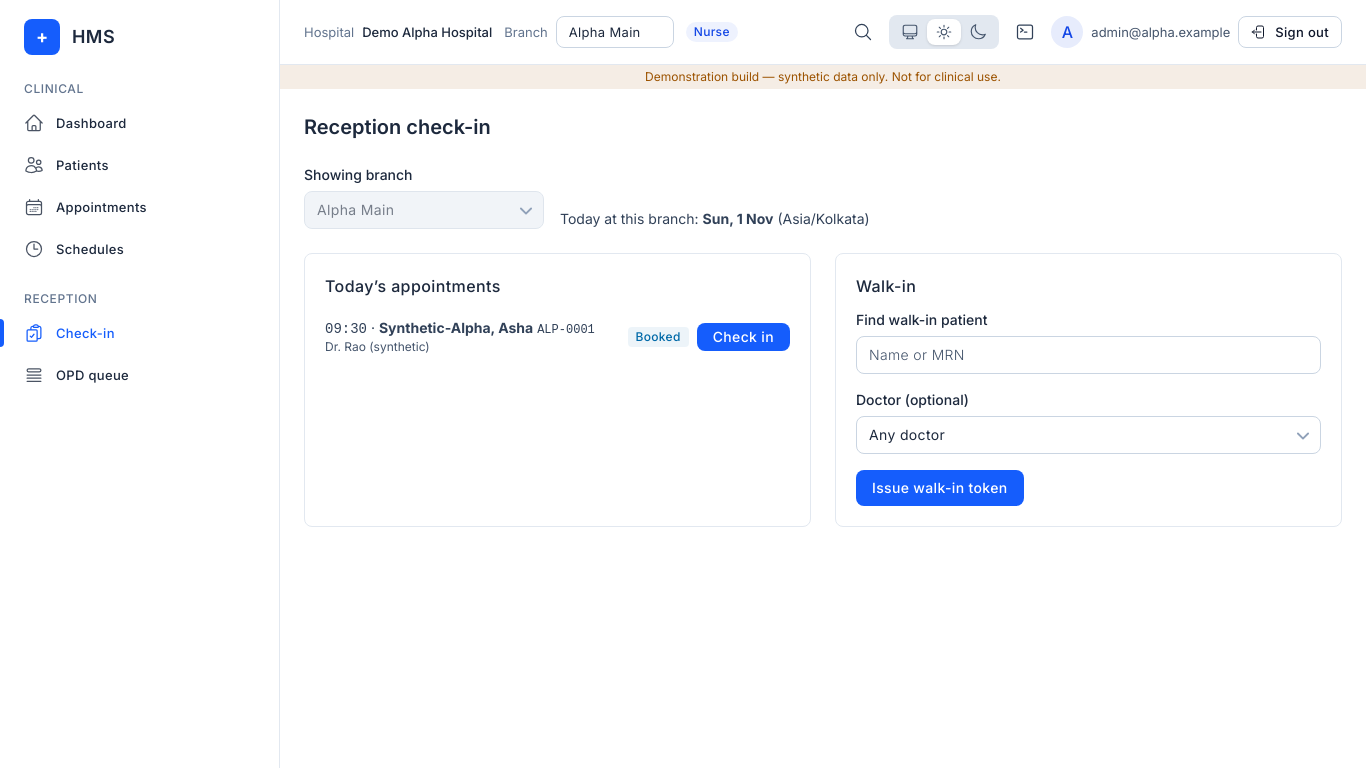
it: CheckInPage › maps 409 invalid_state to a clear message
Step 1. Click the button "Check in" → (743, 336), box [697, 322, 790, 350]
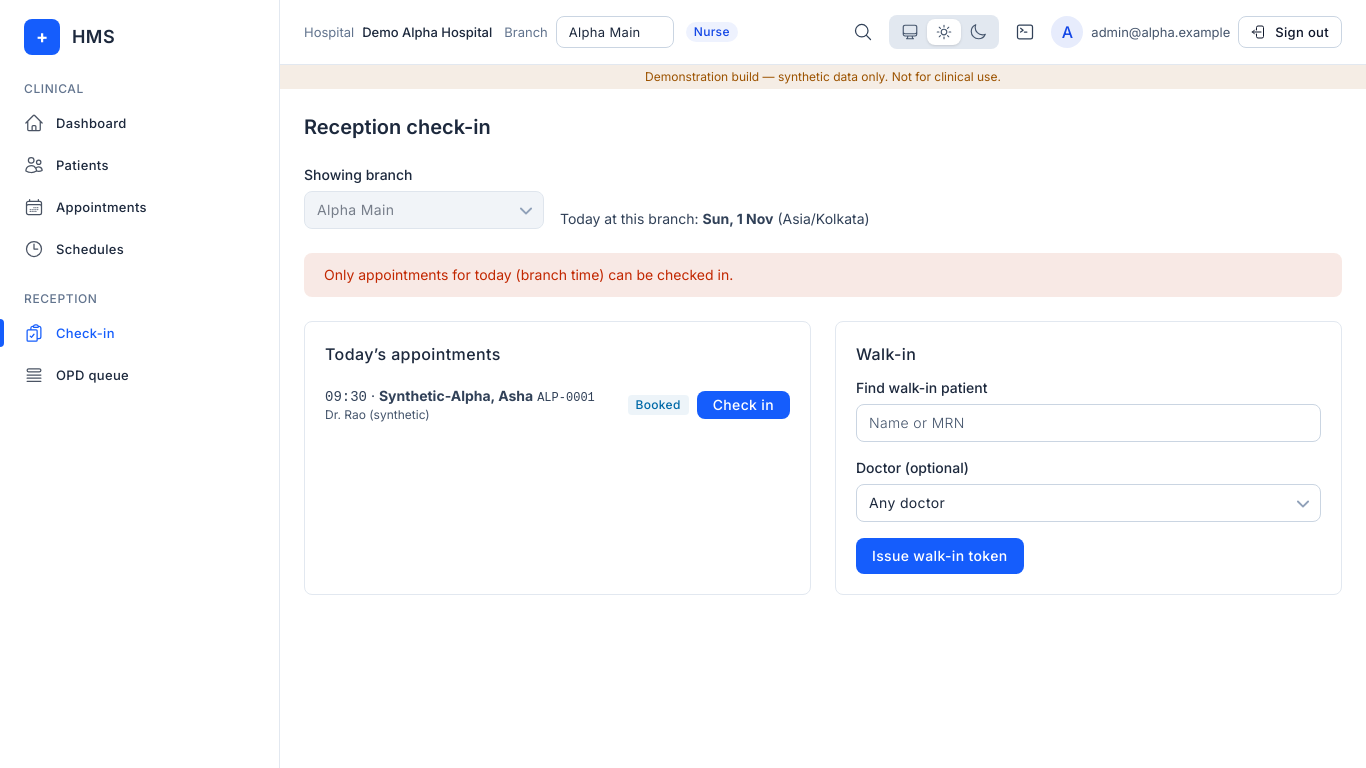
Result: the message shows "Only appointments for today" at [324, 266, 733, 283]
